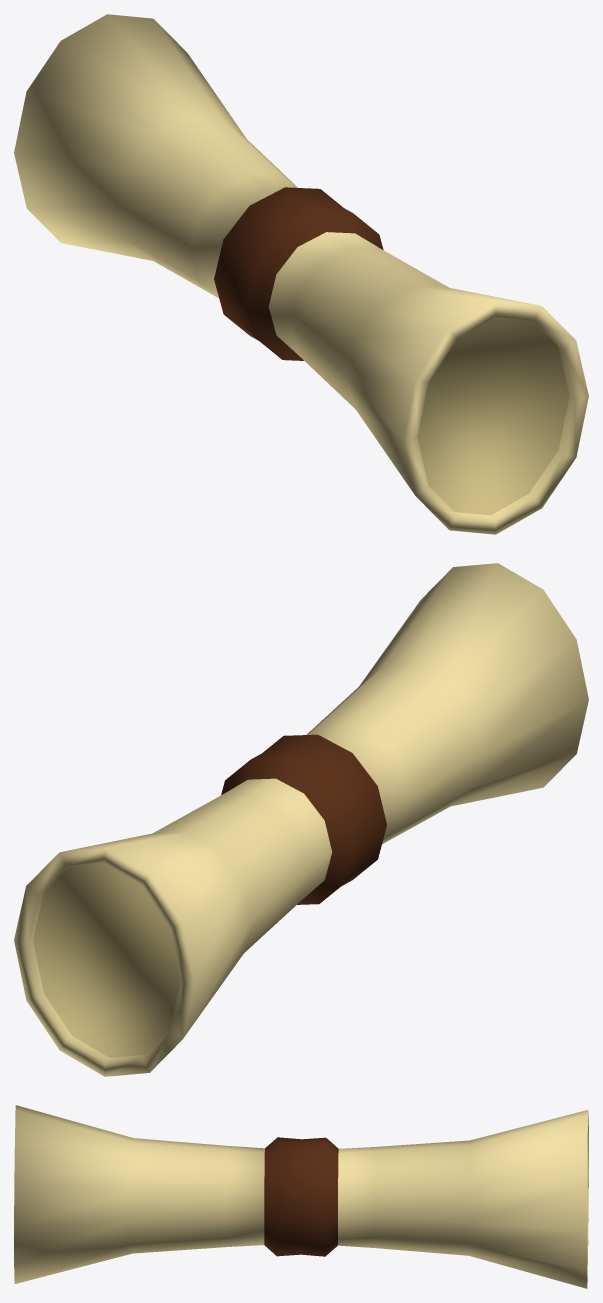
File: map.obj
3 renders of one model, top to bottom at view 1: azimuth 30°, elevation 25°; view 2: azimuth 150°, elevation 25°; view 3: azimuth 270°, elevation 25°, orthographic. The views are drawn at different scales.
Parts seen in each view (by area): view 1: map; view 2: map; view 3: map.
Boxes of the visible parts, bbox=[...] form: map: bbox=[14, 14, 588, 534]; map: bbox=[14, 563, 588, 1076]; map: bbox=[14, 1105, 588, 1288].
Size of the model in its own units: 0.0906 by 0.1068 by 0.3245.
